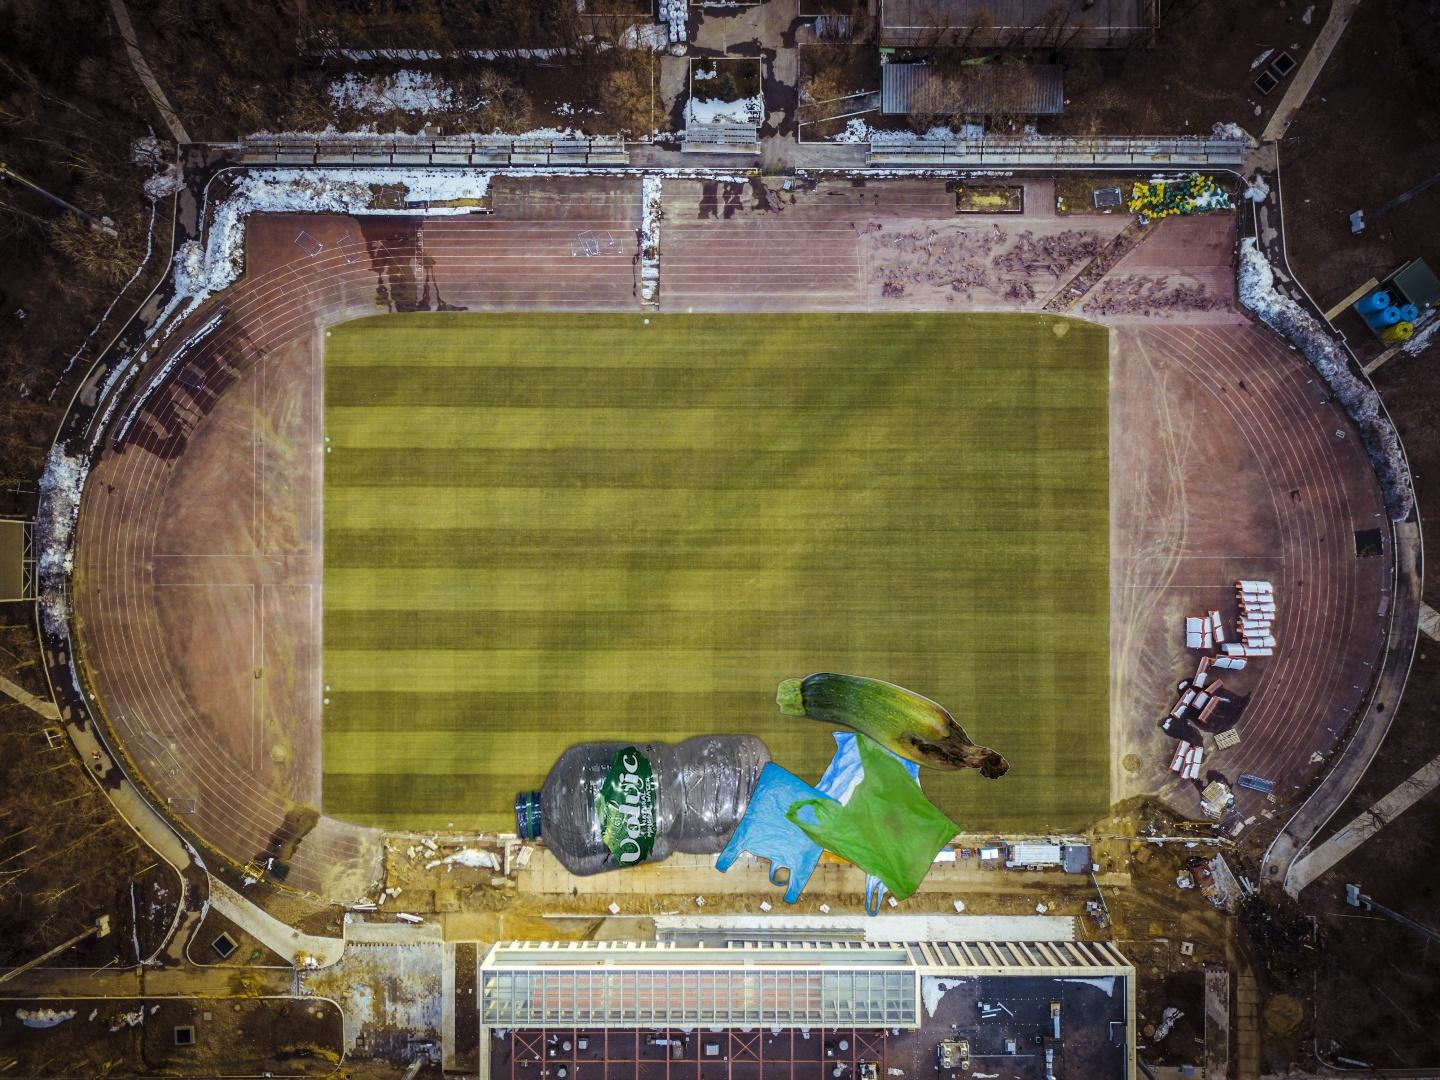biological: (773, 669, 1013, 783)
plastic-bag: (714, 727, 965, 919)
plastic-bottles: (511, 729, 778, 901)
